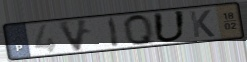4: (33, 23, 59, 54)
I: (107, 16, 121, 48)
K: (188, 9, 217, 39)
Q: (121, 13, 159, 47)
U: (152, 9, 188, 44)
V: (56, 18, 91, 54)
